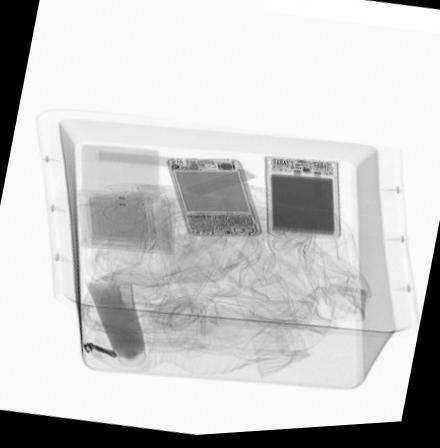Powerbank: (263, 159, 342, 246)
